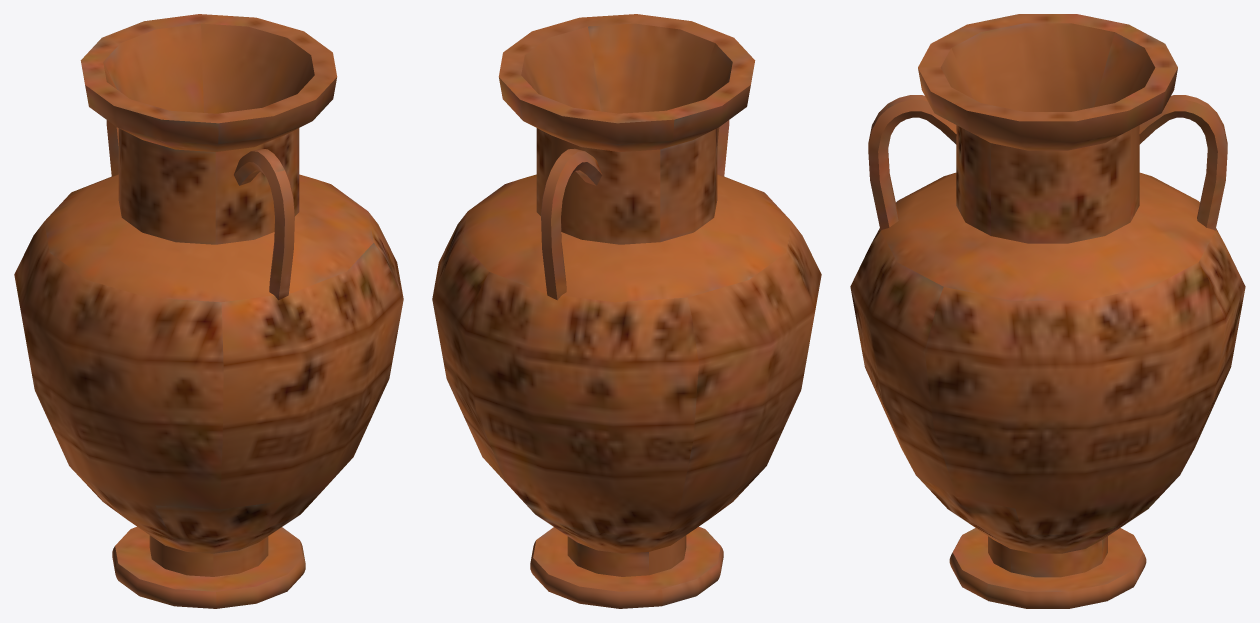
The model's file is SM_vase_06.glb.
The picture shows the model from 3 angles, left to right: view 1: azimuth 30°, elevation 25°; view 2: azimuth 150°, elevation 25°; view 3: azimuth 270°, elevation 25°; orthographic projection.
Parts seen in each view (by area): view 1: SM_vase_06; view 2: SM_vase_06; view 3: SM_vase_06.
Boxes of the visible parts, bbox=[...] form: SM_vase_06: bbox=[14, 14, 403, 608]; SM_vase_06: bbox=[432, 14, 821, 608]; SM_vase_06: bbox=[850, 14, 1245, 608].
Size of the model in its own units: 0.6409 by 0.9215 by 0.6574.
1 material, 1 textured.
